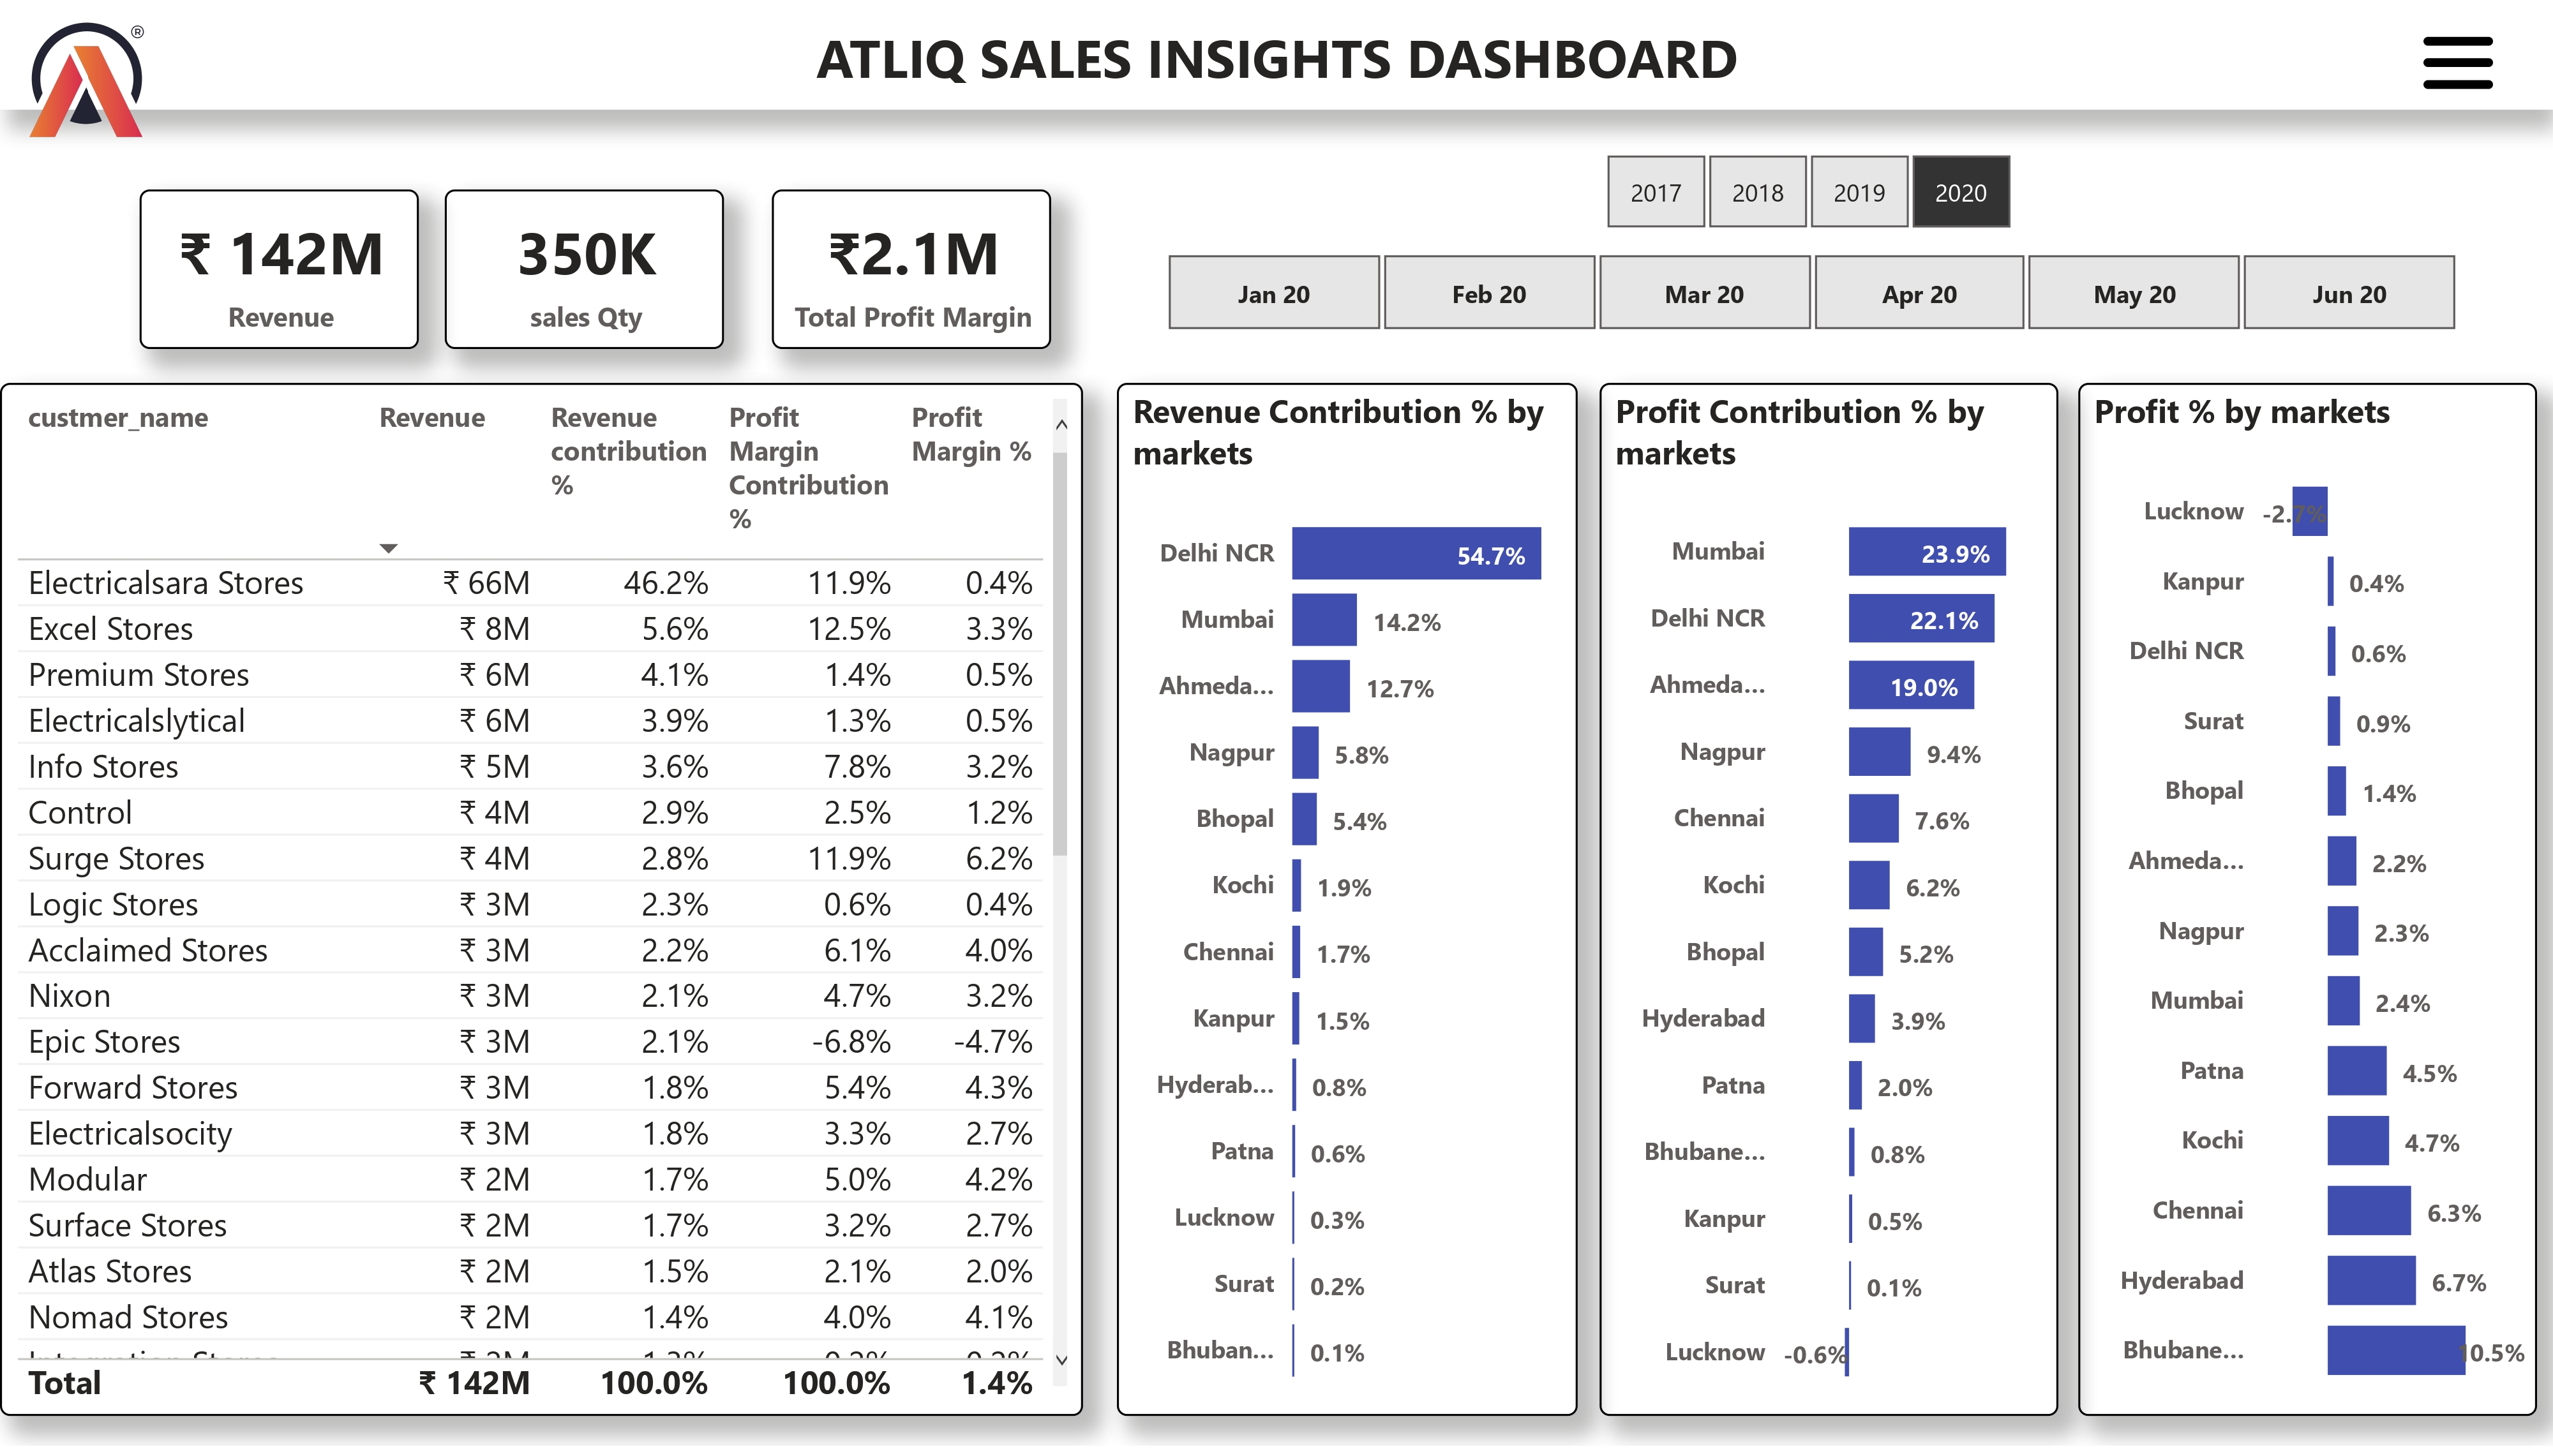

Layout of this report page (visuals, bound fields, positions):
{"tool":"powerbi","page":{"name":"Profit Analysis","canvas":[1280,720],"ordinal":1},"visuals":[{"type":"card","fields":{"Values":["Base Measures 2.sales Qty"]},"box":[223,90.1,140,80],"z":0},{"type":"card","fields":{"Values":["Base Measures 2.Revenue"]},"box":[70.4,90.1,140,80],"z":1000},{"type":"barChart","title":"Revenue Contribution % by markets","fields":{"Category":["sales markets.markets_name"],"Y":["Base Measures 2.Revenue contribution %"]},"box":[560.5,187.3,231.2,518],"z":2000},{"type":"barChart","title":"Profit % by markets","fields":{"Category":["sales markets.markets_name"],"Y":["Base Measures 2.Profit Margin %"]},"box":[1042,187.3,229.8,518],"z":3000},{"type":"slicer","fields":{"Values":["sales date.year"]},"box":[780,65.9,251.7,49.8],"z":4000},{"type":"slicer","fields":{"Values":["sales date.cy_date"]},"box":[560.5,115.6,695.1,51],"z":5000},{"type":"tableEx","title":"Top 5 customer","fields":{"Values":["sales customers.custmer_name","Base Measures 2.Revenue","Base Measures 2.Revenue contribution %","Base Measures 2.Profit Margin Contribution %","Base Measures 2.Profit Margin %"]},"box":[0,187.3,542.9,518],"z":6000},{"type":"card","fields":{"Values":["Base Measures 2.Total Profit Margin"]},"box":[387.2,90.1,140,80],"z":7000},{"type":"barChart","title":"Profit Contribution % by markets","fields":{"Category":["sales markets.markets_name"],"Y":["Base Measures 2.Profit Margin Contribution %"]},"box":[802,187.3,229.8,518],"z":8000},{"type":"textbox","box":[0,0,1280.5,49.8],"z":9000},{"type":"image","box":[0,0,87.8,68.8],"z":10000},{"type":"image","box":[1210.2,4.4,45.4,45.4],"z":11000}]}

Visuals, with their boxes in screenshot pixels (x1, y1, x2, y2), scaled from the page's 1280x720 canvas onto the 2553x1456 screenshot:
card - Base Measures 2.sales Qty: region(445, 182, 724, 344)
card - Base Measures 2.Revenue: region(140, 182, 420, 344)
"Revenue Contribution % by markets" barChart: region(1118, 379, 1579, 1426)
"Profit % by markets" barChart: region(2078, 379, 2536, 1426)
slicer - sales date.year: region(1556, 133, 2058, 234)
slicer - sales date.cy_date: region(1118, 234, 2504, 337)
"Top 5 customer" tableEx: region(0, 379, 1083, 1426)
card - Base Measures 2.Total Profit Margin: region(772, 182, 1052, 344)
"Profit Contribution % by markets" barChart: region(1599, 379, 2058, 1426)
textbox: region(0, 0, 2552, 101)
image: region(0, 0, 175, 139)
image: region(2414, 9, 2504, 101)
